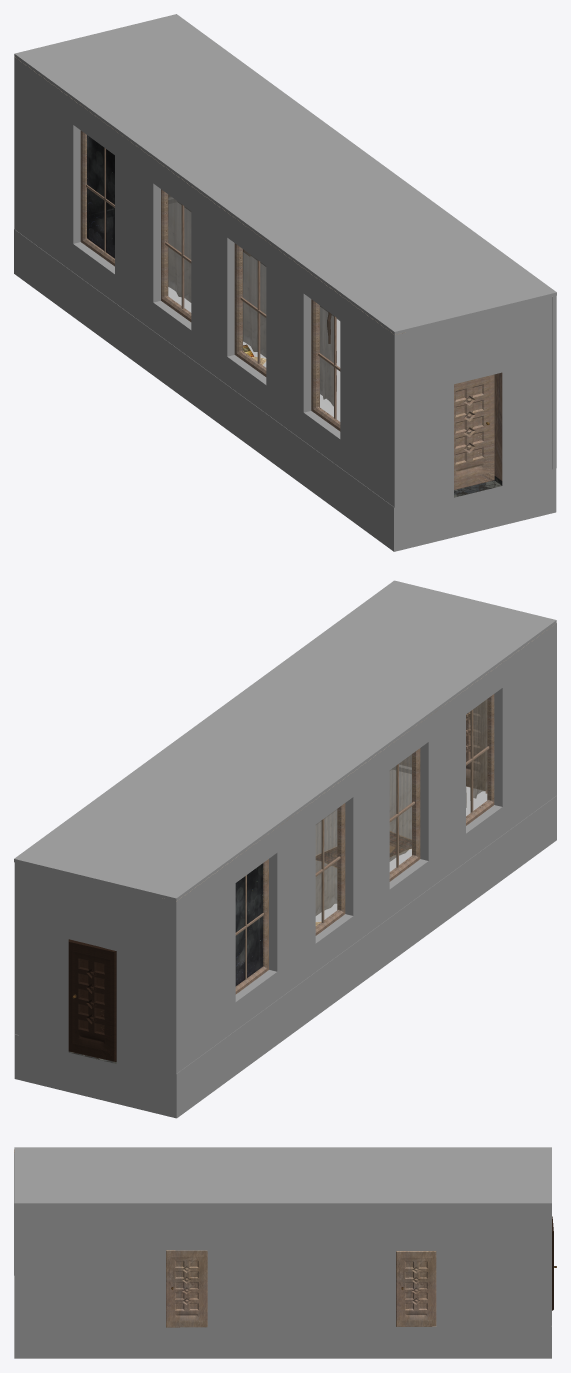
Rendered from ground_floor_main_hallway.fbx.
The picture shows the model from 3 angles, top to bottom: view 1: azimuth 30°, elevation 25°; view 2: azimuth 150°, elevation 25°; view 3: azimuth 270°, elevation 25°; orthographic projection. The views are drawn at different scales.
Visible parts, largest first — view 1: ceiling, left_wall, long_part_of_corridor, pCube44, pPlane5, curtains:pPlane1, pPlane1, curtains:pPlane3, pCube65, pCube47, pCube66, pCube67 (+1 smaller); view 2: ceiling, left_wall, long_part_of_corridor, office:pCube38, pPlane5, pPlane1, curtains:pPlane1, pCube45, curtains:pPlane2, pCube65, pCube66, pCube47 (+2 smaller); view 3: right_wall, ceiling, long_part_of_corridor, pCube43, pCube68.
Boxes of the visible parts, x1,y1,x2,y2 form: ceiling: (14,14,556,334); left_wall: (14,57,406,507); long_part_of_corridor: (14,195,556,551); pCube44: (454,374,494,490); pPlane5: (87,135,114,258); curtains:pPlane1: (243,249,266,357); pPlane1: (168,194,191,302); curtains:pPlane3: (320,305,336,406); pCube65: (234,243,266,376); pCube47: (311,299,340,431); pCube66: (161,189,191,321); pCube67: (80,130,114,266); ceiling: (14,580,556,901); left_wall: (161,623,556,1074); long_part_of_corridor: (14,754,556,1118); office:pCube38: (68,939,116,1061); pPlane5: (235,863,262,986); pPlane1: (315,809,337,915); curtains:pPlane1: (389,754,411,861); pCube45: (466,701,485,790); curtains:pPlane2: (470,699,487,800); pCube65: (389,748,420,881); pCube66: (315,803,345,935); pCube47: (466,694,494,825); right_wall: (14,1205,551,1327); ceiling: (14,1147,551,1205); long_part_of_corridor: (14,1206,551,1358); pCube43: (166,1250,207,1327); pCube68: (396,1251,436,1326).
Size of the model in its own units: 21.32 by 26.78 by 84.73.
